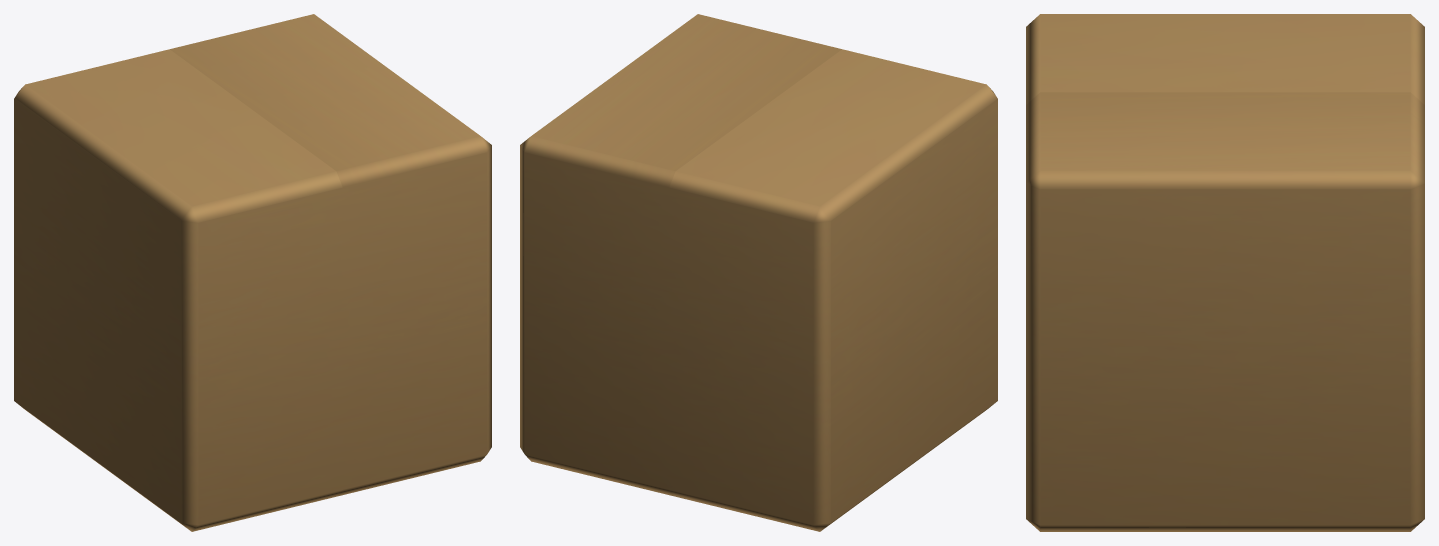
Rendered from box_cardboard_large_square_closed.fbx.
3 renders of one model, left to right at view 1: azimuth 30°, elevation 25°; view 2: azimuth 150°, elevation 25°; view 3: azimuth 270°, elevation 25°, orthographic. The views are drawn at different scales.
Visible parts, largest first — view 1: box_cardboard_large_square_closed; view 2: box_cardboard_large_square_closed; view 3: box_cardboard_large_square_closed.
Part boxes in pixels (x1,y1,x2,y2): box_cardboard_large_square_closed: (14, 14, 491, 531); box_cardboard_large_square_closed: (520, 14, 997, 531); box_cardboard_large_square_closed: (1026, 14, 1424, 531).
Size of the model in its own units: 104 by 104 by 104.
